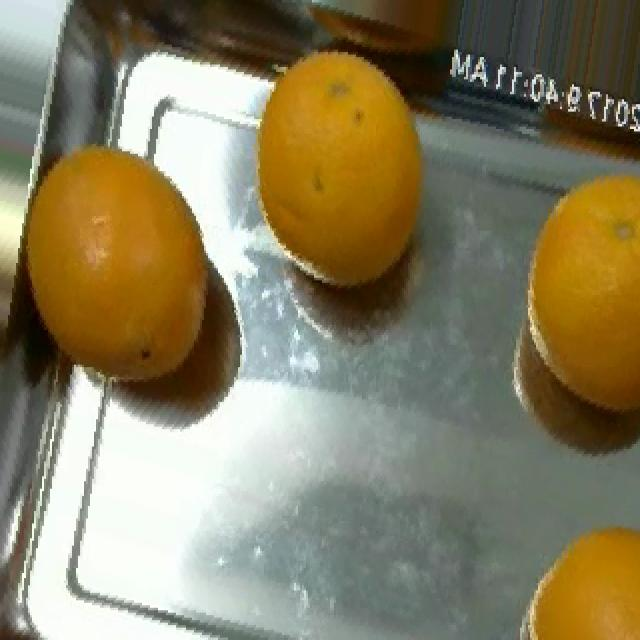Fruit: (514, 508, 640, 640)
